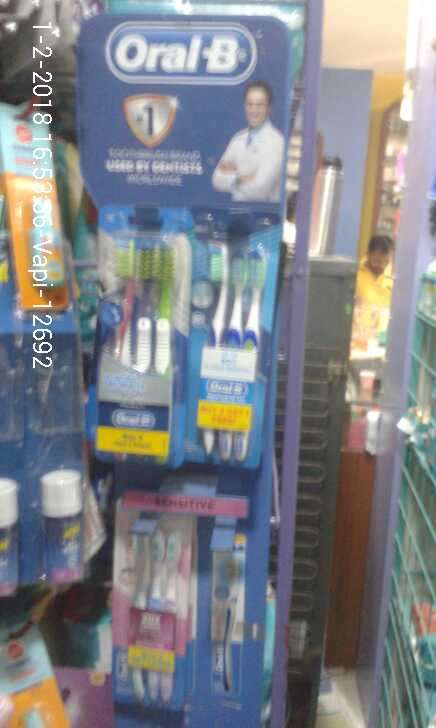oralb: (186, 224, 281, 479), (95, 227, 177, 463)
